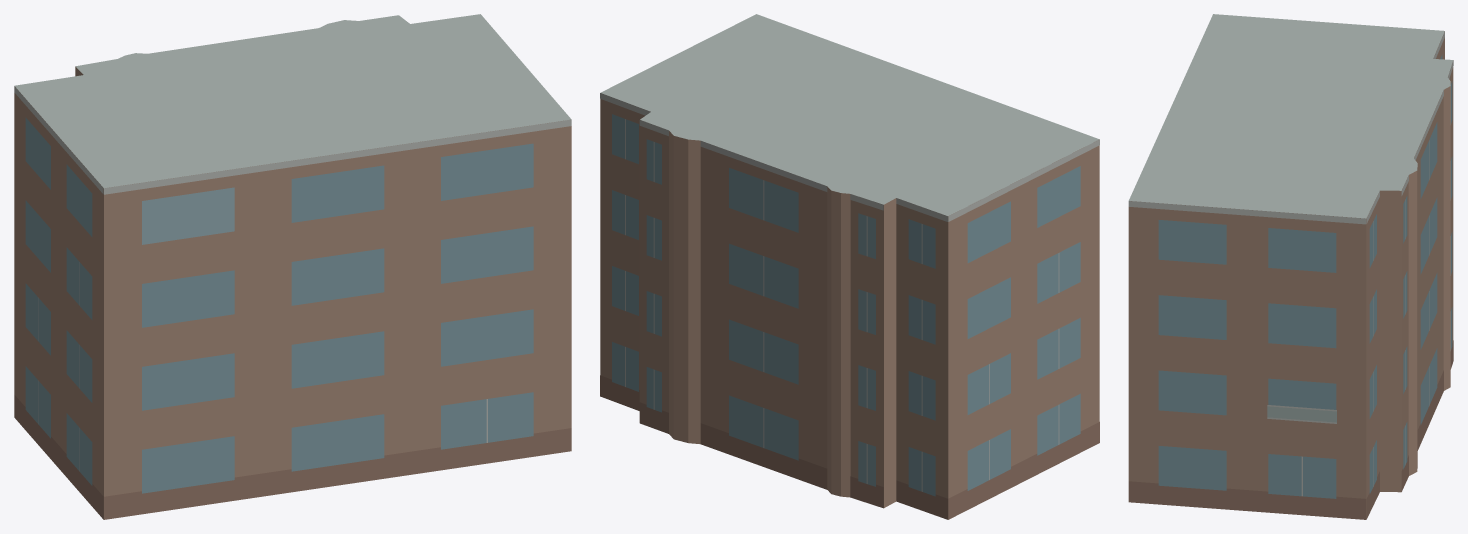
The model's file is survey-upis-32536980.glb.
3 views of the same model, side by side, from view 1: azimuth 30°, elevation 25°; view 2: azimuth 150°, elevation 25°; view 3: azimuth 270°, elevation 25° (orthographic). The views are drawn at different scales.
Parts seen in each view (by area): view 1: survey-upis-32536980.tmp; view 2: survey-upis-32536980.tmp; view 3: survey-upis-32536980.tmp.
Boxes of the visible parts, box(x1,y1,x2,y2) form: survey-upis-32536980.tmp: box(14, 14, 571, 519); survey-upis-32536980.tmp: box(600, 14, 1099, 519); survey-upis-32536980.tmp: box(1128, 14, 1453, 519).
Size of the model in its own units: 18.06 by 12.4 by 12.12.
